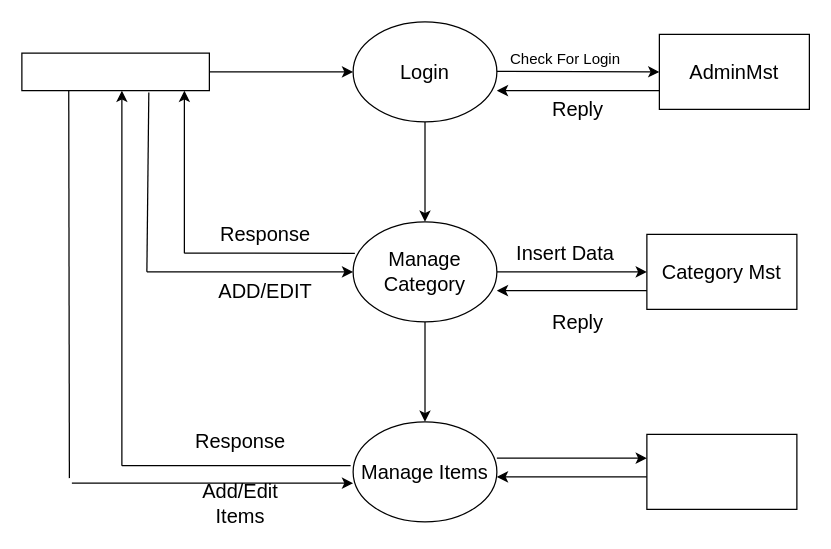
This 831x549 diagram has some shape labels left out. The centre of each missing label's shape, as x and y in pixels:
Admin: (115,71)
Item Mst: (721,471)
